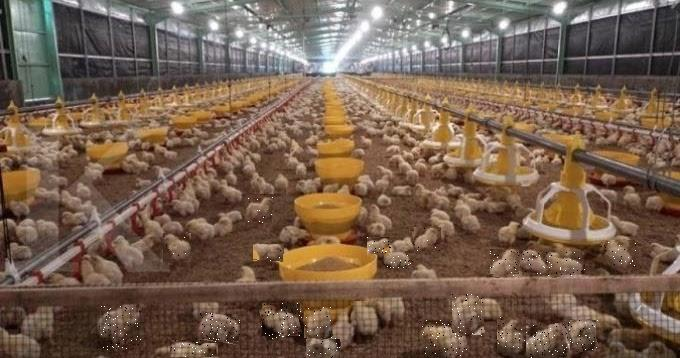chicken: (99, 305, 141, 350), (422, 320, 467, 358), (261, 303, 302, 340), (526, 324, 568, 358), (197, 313, 240, 344), (453, 294, 484, 336), (498, 317, 528, 355), (351, 302, 380, 340), (568, 319, 598, 353), (602, 241, 639, 268), (162, 234, 192, 265), (548, 252, 585, 277), (304, 306, 332, 339), (171, 340, 221, 357), (244, 194, 273, 223), (491, 250, 522, 277), (413, 226, 442, 253), (305, 338, 340, 358), (522, 251, 551, 274), (254, 244, 286, 262), (385, 251, 414, 268), (368, 237, 392, 255)
